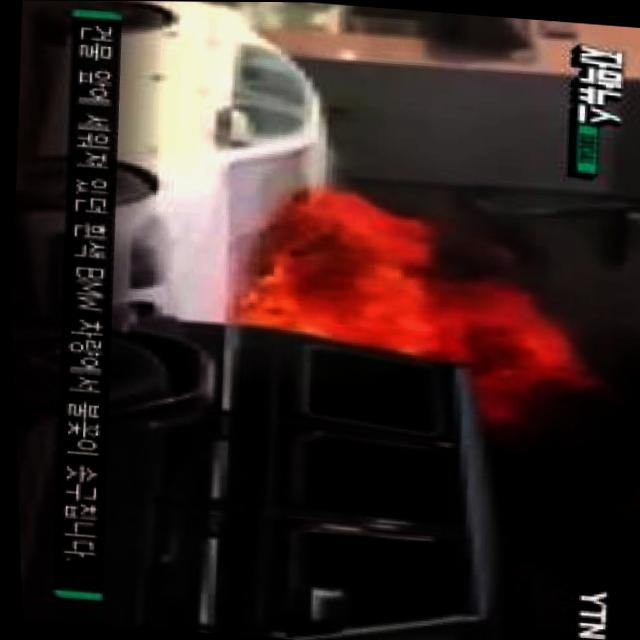Fire: (232, 193, 566, 421)
